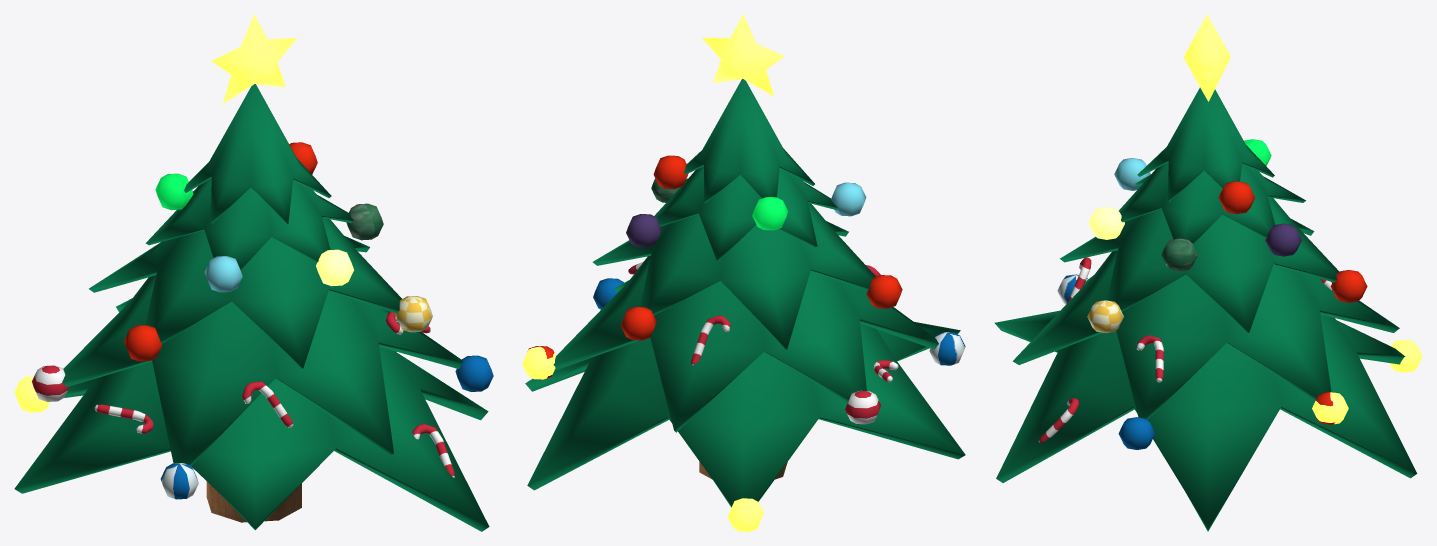
File: XmasTree_Art.fbx
The picture shows the model from 3 angles, left to right: view 1: azimuth 30°, elevation 25°; view 2: azimuth 150°, elevation 25°; view 3: azimuth 270°, elevation 25°; orthographic projection. The views are drawn at different scales.
Visible parts, largest first — view 1: XmasTree_Art; view 2: XmasTree_Art; view 3: XmasTree_Art.
Boxes of the visible parts, x1,y1,x2,y2 form: XmasTree_Art: [14, 14, 493, 531]; XmasTree_Art: [522, 14, 965, 531]; XmasTree_Art: [994, 14, 1422, 531].
Bounding box in the file's own units: 4.12 × 4.05 × 3.56.
